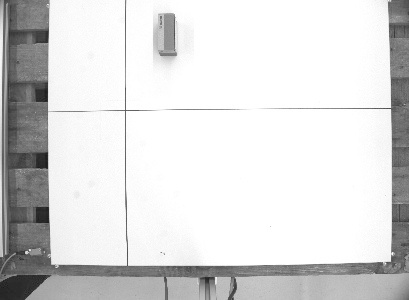b3: (155, 11, 181, 58)
